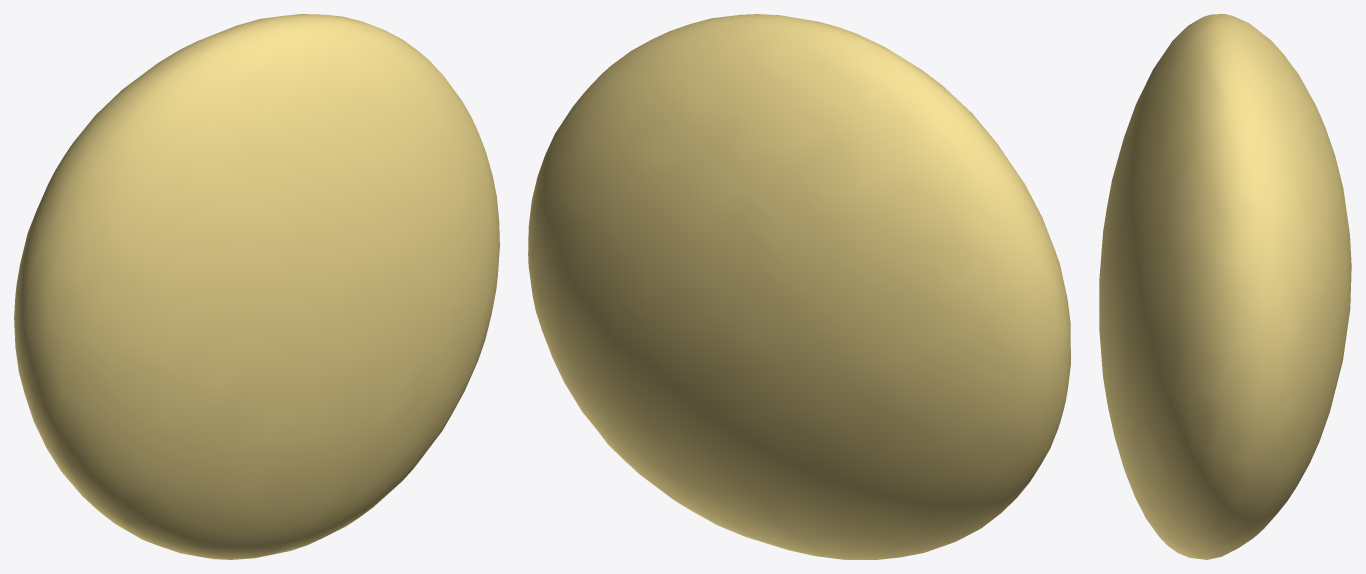
3 renders of one model, left to right at view 1: azimuth 30°, elevation 25°; view 2: azimuth 150°, elevation 25°; view 3: azimuth 270°, elevation 25°, orthographic. The views are drawn at different scales.
Visible parts, largest first — view 1: ZA_71175898a70b9e64; view 2: ZA_71175898a70b9e64; view 3: ZA_71175898a70b9e64.
Part boxes in pixels (x1,y1,x2,y2): ZA_71175898a70b9e64: (14, 14, 499, 559); ZA_71175898a70b9e64: (528, 14, 1070, 559); ZA_71175898a70b9e64: (1099, 14, 1351, 559).
Bounding box in the file's own units: 0.0103 × 0.0104 × 0.00481.
